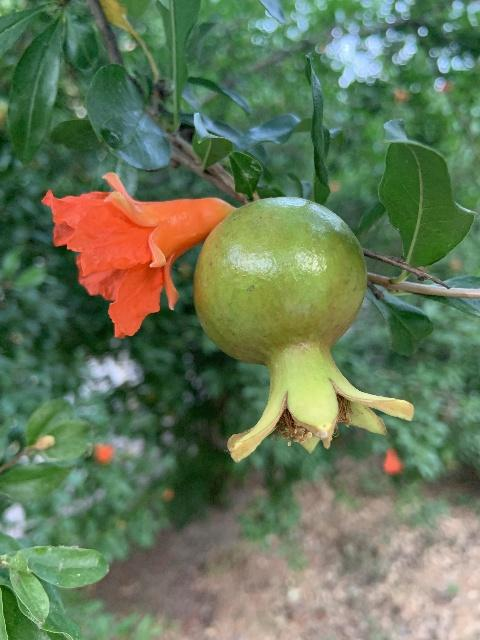flower: (40, 172, 233, 338)
mid-growth: (192, 196, 414, 462)
